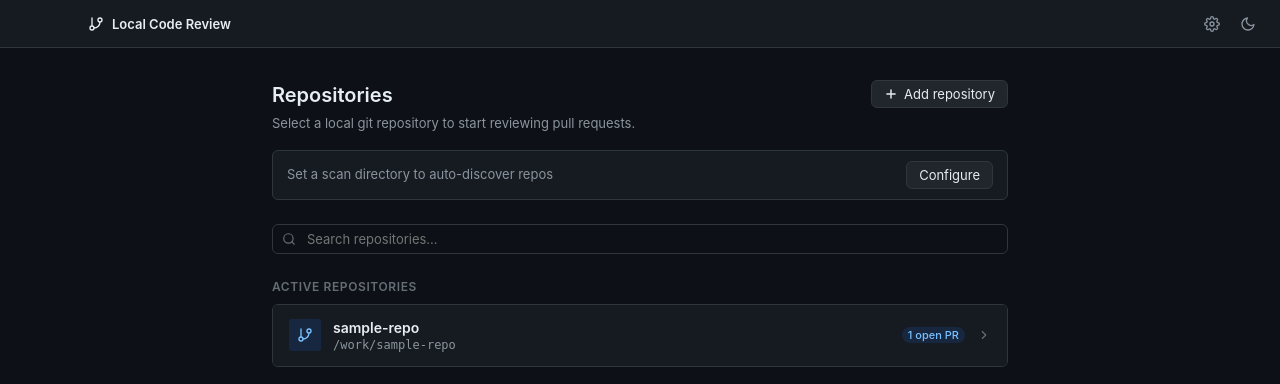
Home active repositories › filters repositories by the search text
expect the button "sample-repo /work/sample-repo 1 open PR" is shown: met, box [273, 304, 1007, 366]
Type "unrelated" into the field.
click(640, 238); type("unrelated")  # box [272, 224, 1008, 254]
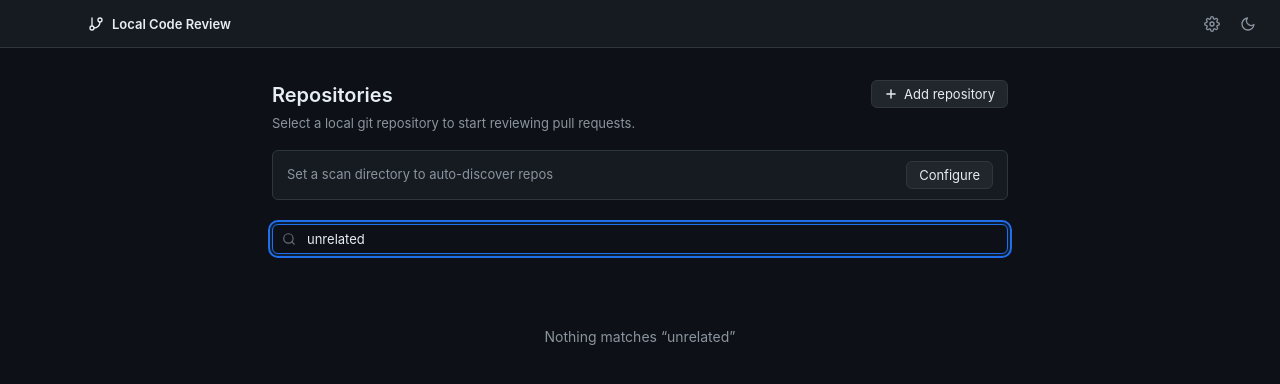
expect the button "sample-repo" is gone: met
